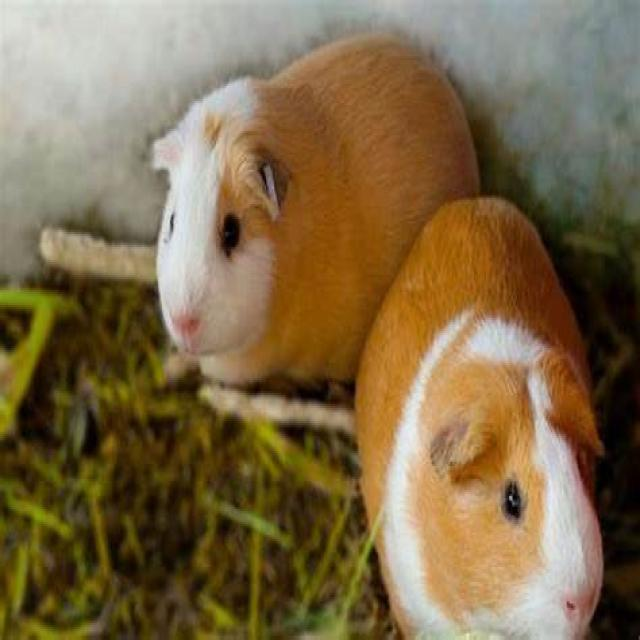guinea pig: (154, 27, 484, 383), (351, 194, 611, 638)
